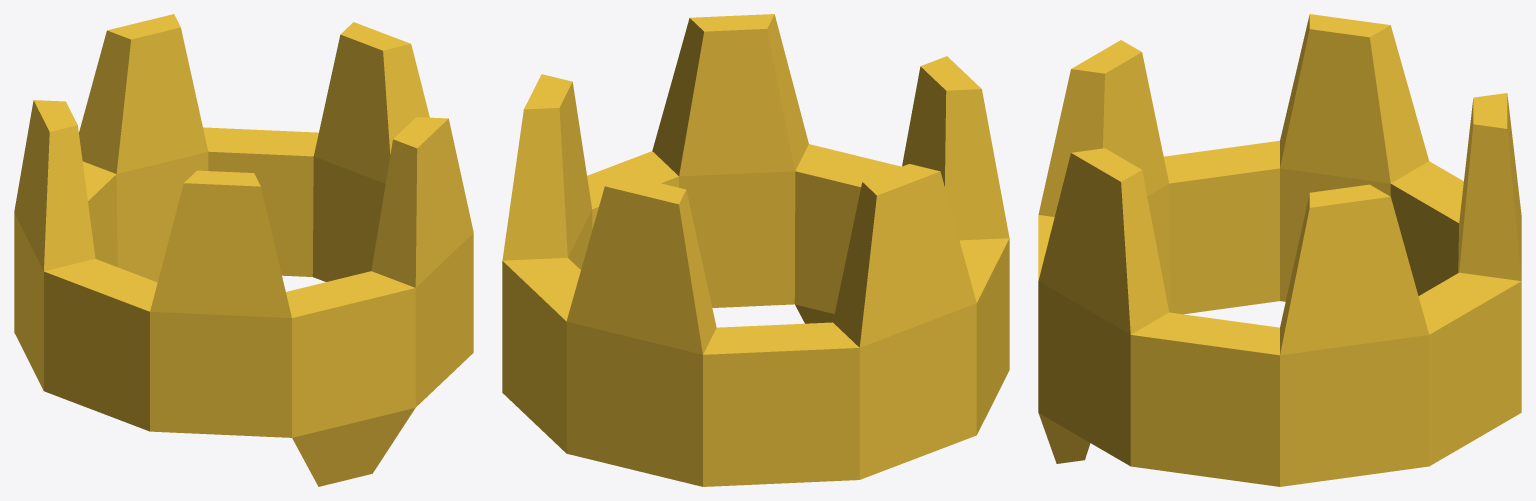
File: Crown.fbx
3 renders of one model, left to right at view 1: azimuth 30°, elevation 25°; view 2: azimuth 150°, elevation 25°; view 3: azimuth 270°, elevation 25°, orthographic. The views are drawn at different scales.
Parts seen in each view (by area): view 1: Crown; view 2: Crown; view 3: Crown.
Boxes of the visible parts, bbox=[...] form: Crown: bbox=[14, 14, 473, 486]; Crown: bbox=[502, 14, 1009, 486]; Crown: bbox=[1038, 14, 1521, 486].
Size of the model in its own units: 72.73 by 53.5 by 69.17.
